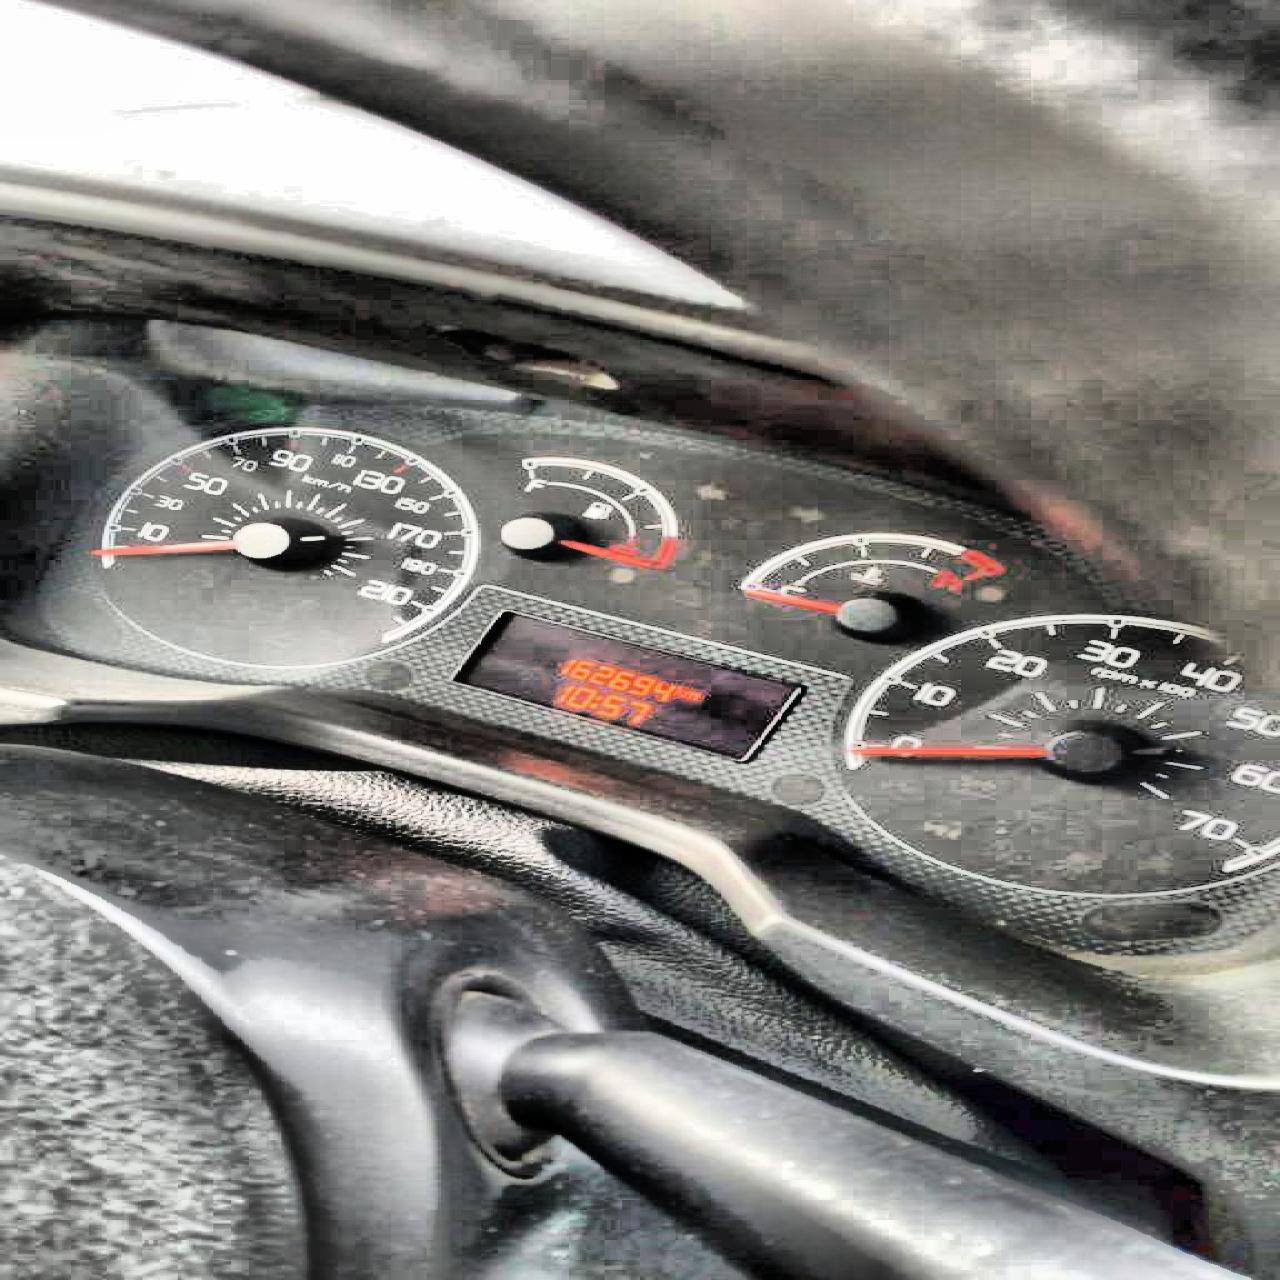0: (563, 683, 593, 708)
1: (556, 656, 578, 675), (556, 682, 573, 702)
2: (588, 662, 613, 686)
4: (651, 680, 673, 700)
5: (593, 694, 627, 719)
6: (605, 668, 633, 690), (568, 658, 588, 680)
7: (627, 699, 652, 727)
9: (631, 673, 653, 696)
X: (586, 693, 605, 708), (682, 688, 697, 700), (674, 683, 682, 697)
odometer: (440, 606, 813, 763)
